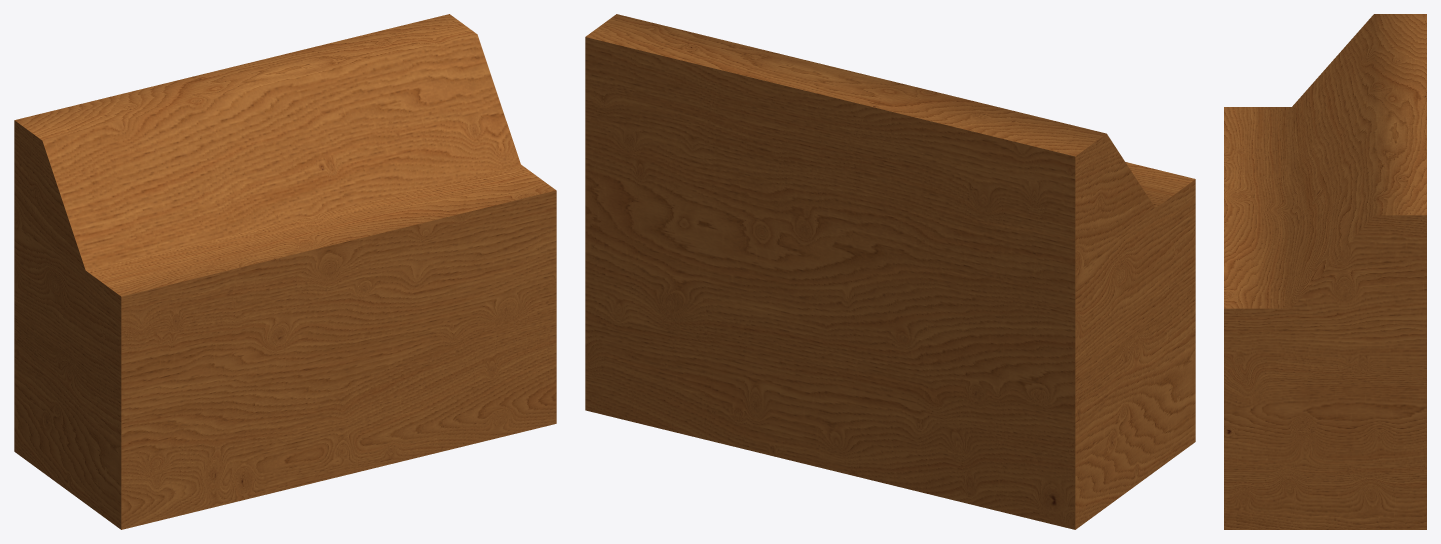
The model's file is Cabinet1_Textured.fbx.
The picture shows the model from 3 angles, left to right: view 1: azimuth 30°, elevation 25°; view 2: azimuth 150°, elevation 25°; view 3: azimuth 270°, elevation 25°; orthographic projection. The views are drawn at different scales.
Parts seen in each view (by area): view 1: pCube1; view 2: pCube1; view 3: pCube1.
Part boxes in pixels (x1,y1,x2,y2): pCube1: (14, 14, 556, 529); pCube1: (585, 14, 1195, 529); pCube1: (1224, 14, 1426, 529).
Size of the model in its own units: 3.85 by 2.8 by 1.64.
Materials: 1 (1 with a texture image).
